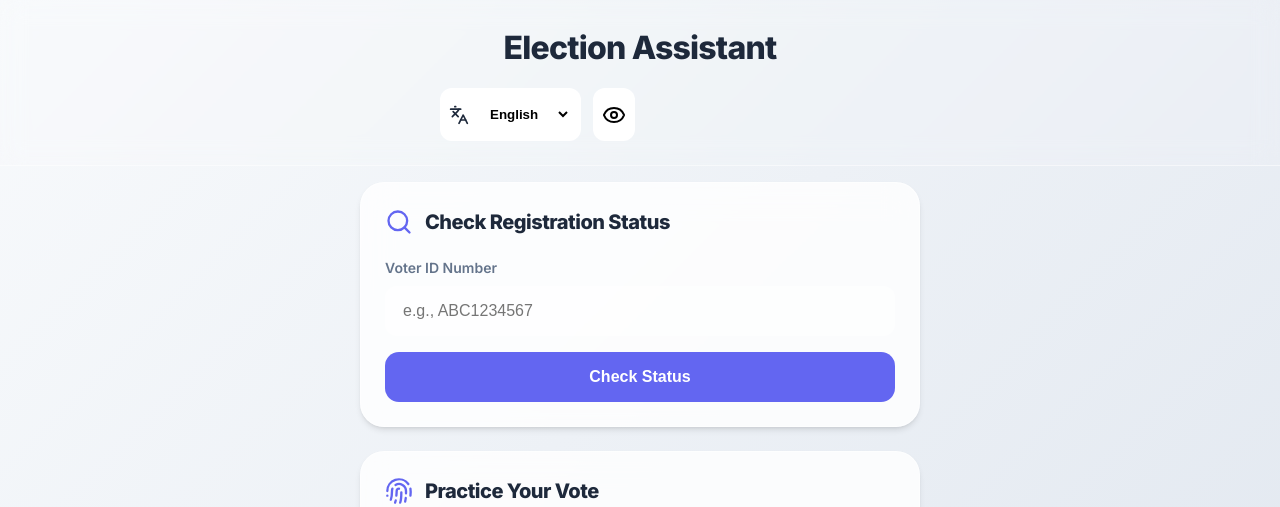
it: Election Assistant Production Suite › validates Voter ID correctly
# Test empty
Click the button "Check Status": (640, 377) left=385, top=352, right=895, bottom=402
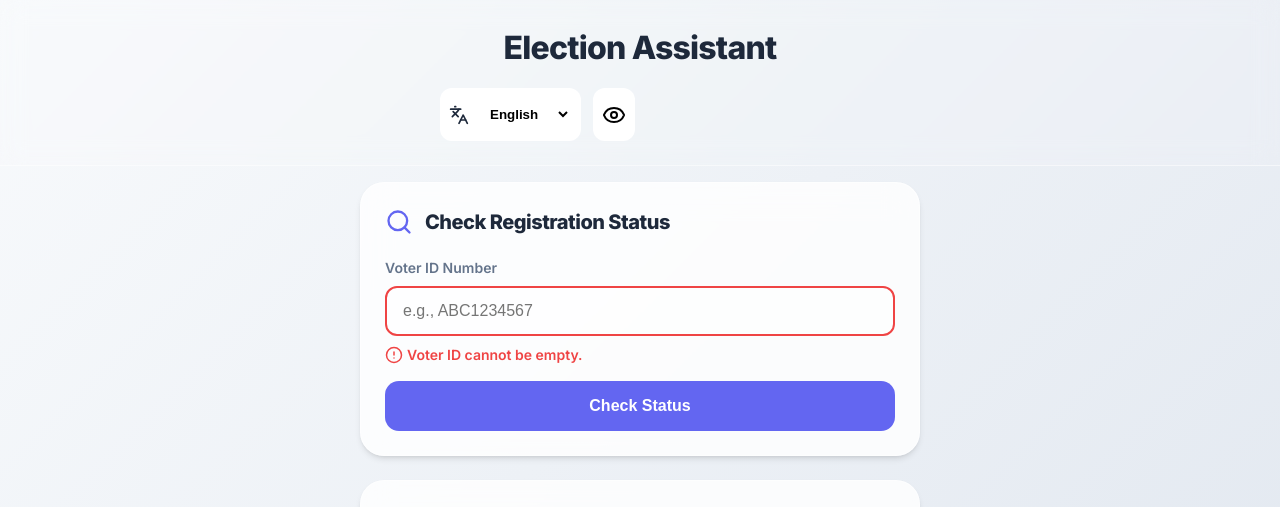
Now the text "Voter ID cannot be empty." is shown, box left=385, top=346, right=583, bottom=364
# Test invalid format
In the field with placeholder "e.g., ABC1234567": (640, 311) left=385, top=286, right=895, bottom=336, type "123ABC4567"
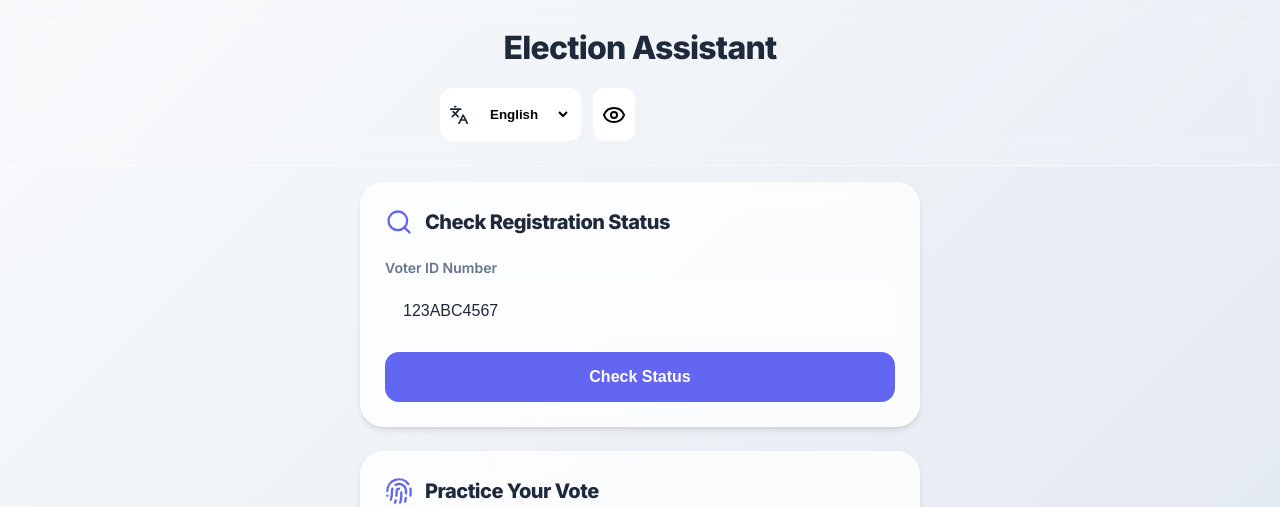
Click the button "Check Status": (640, 377) left=385, top=352, right=895, bottom=402
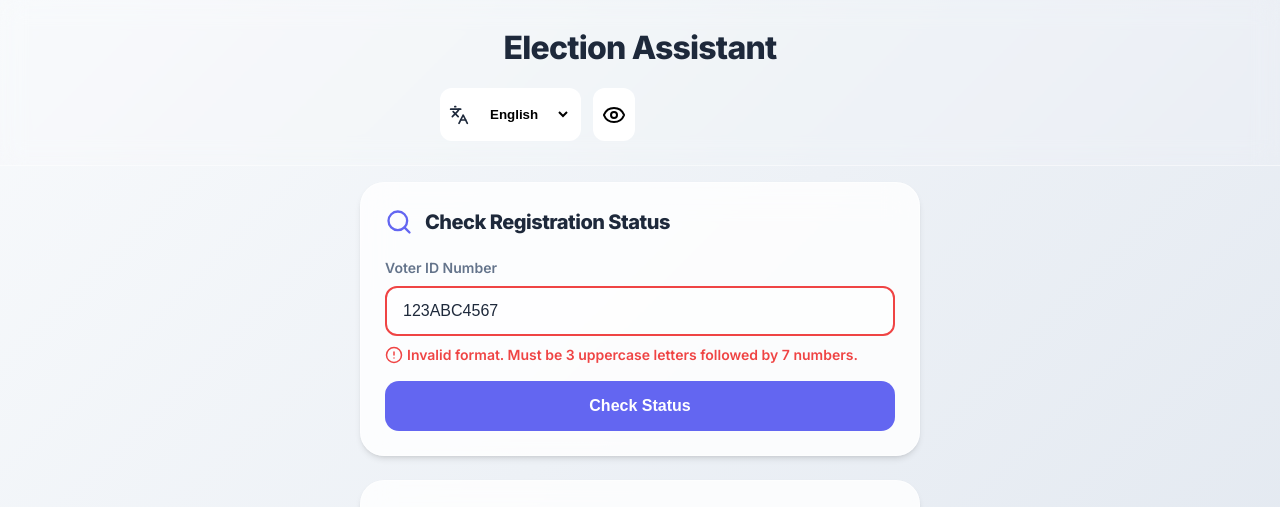
Now the text "Invalid format. Must be 3 uppercase letters followed by 7 numbers." is shown, box left=385, top=344, right=895, bottom=365
# Test valid format
Replace the text in the field with placeholder "e.g., ABC1234567" with "ABC1234567": (640, 311) left=385, top=286, right=895, bottom=336
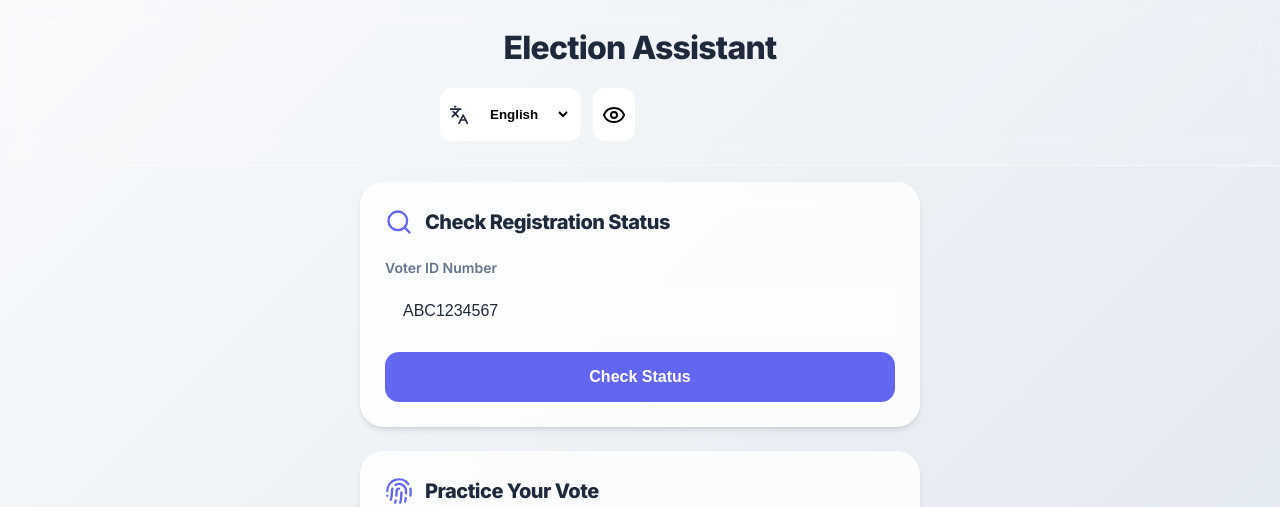
Click the button "Check Status": (640, 377) left=385, top=352, right=895, bottom=402
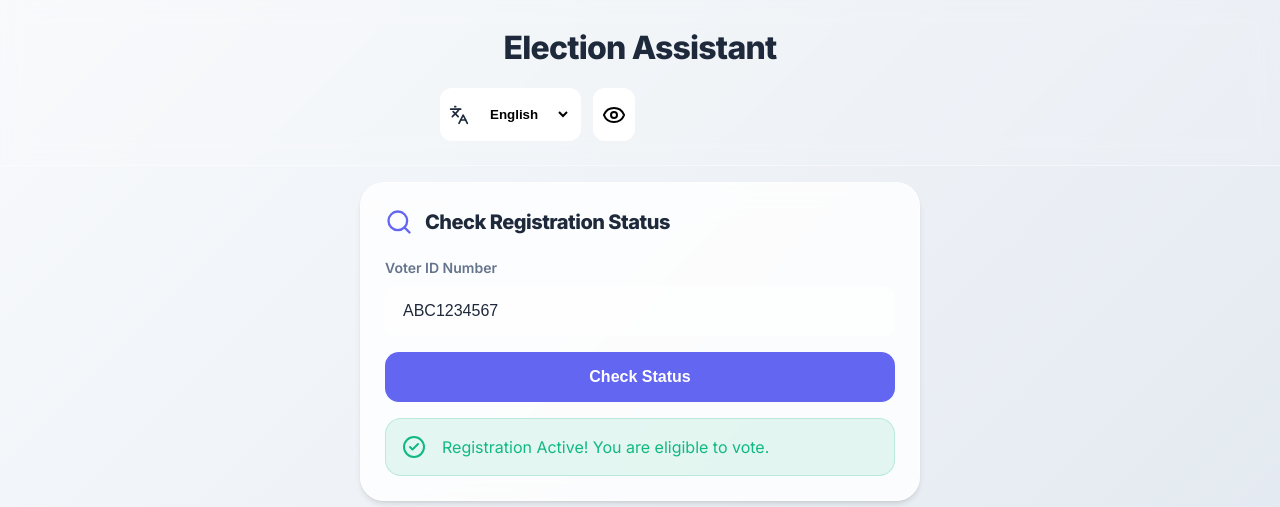
Now the text "Registration Active! You are eligible to vote." is shown, box left=385, top=418, right=895, bottom=476
